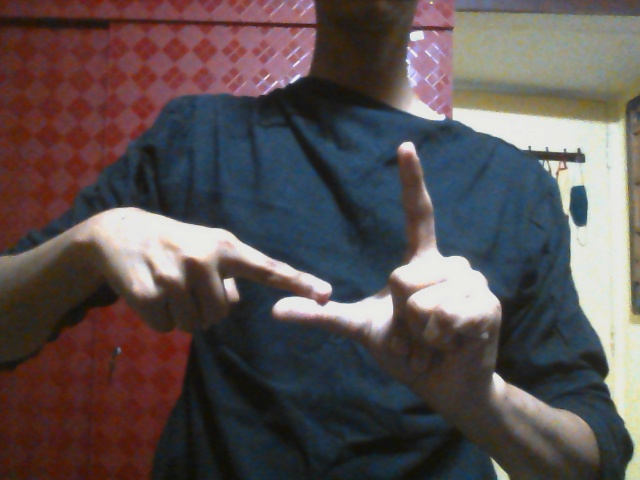J: (207, 138, 499, 389)
